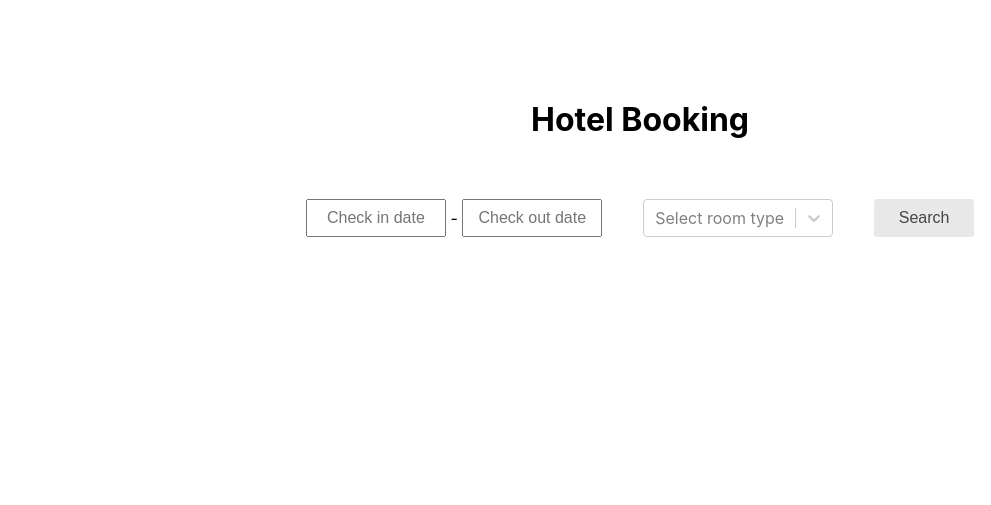
Test: returns correct double rooms with booking status
Type "28/04/2022" into the field with placeholder "Check in date". click: (376, 218)
box: [306, 199, 446, 237]
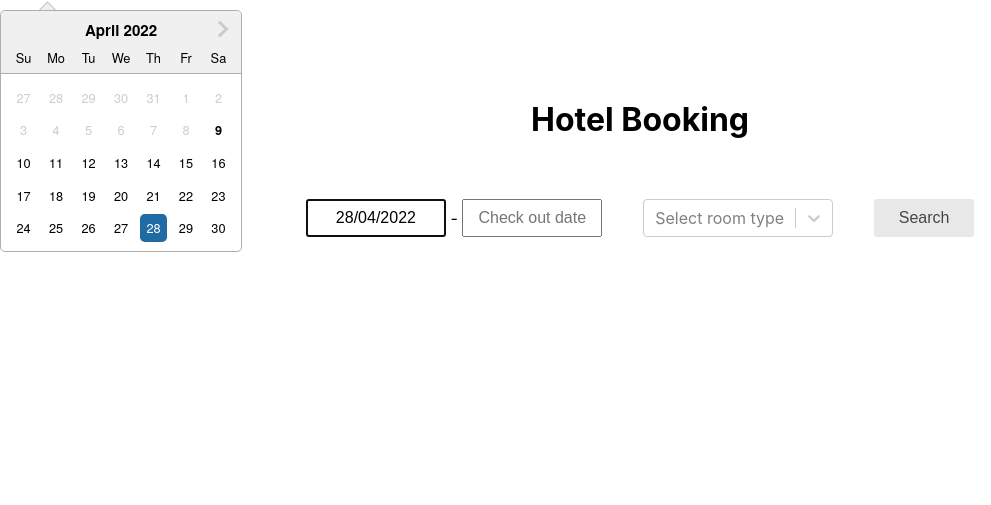
Type "04/05/2022" into the field with placeholder "Check out date". click: (532, 218)
box: [462, 199, 602, 237]
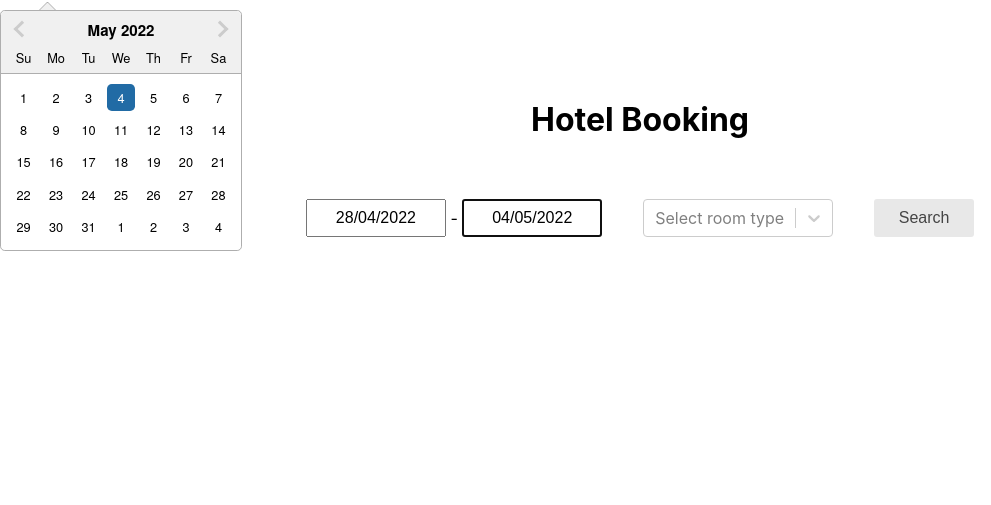
Click the element showing "Select room type". click: (738, 218)
box: [643, 199, 833, 237]
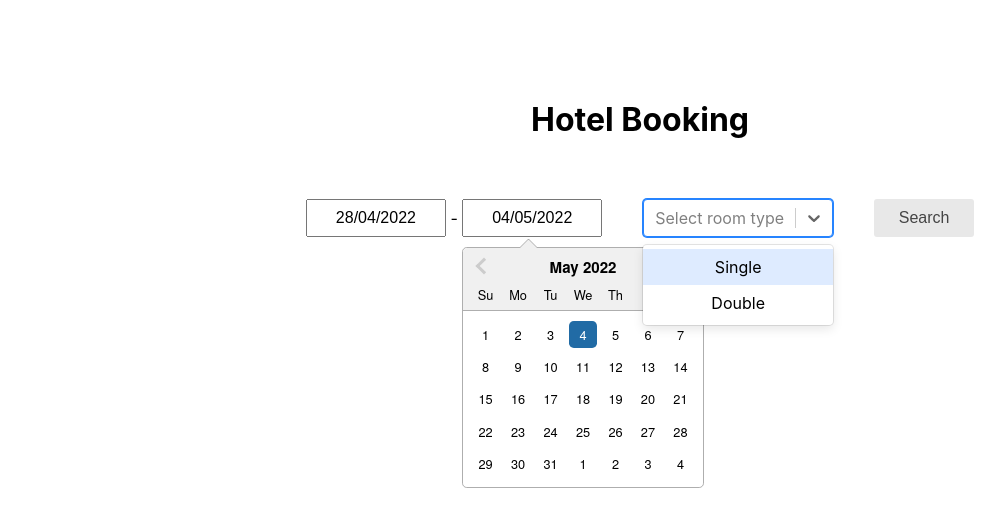
Click the option "Double". click: (738, 303)
box: [711, 293, 765, 313]
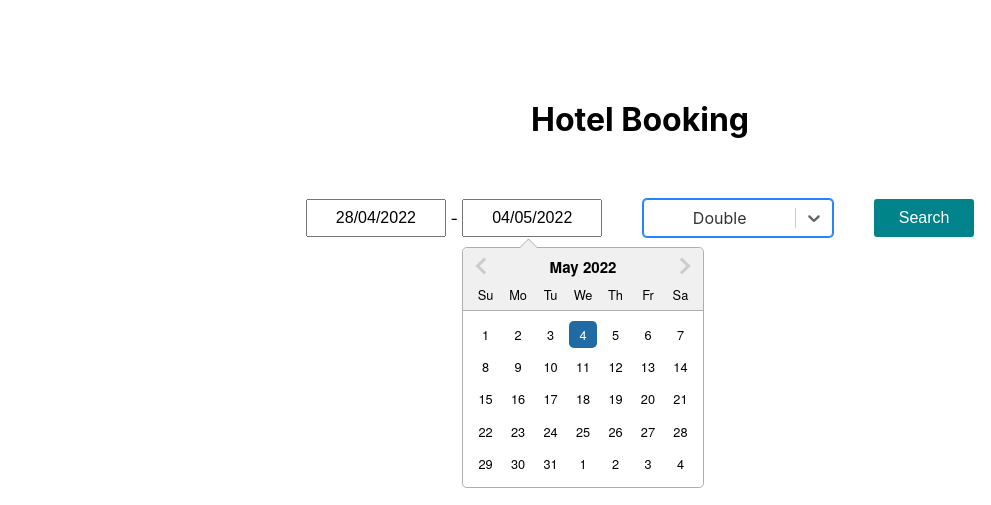
Click the button "Search". click: (924, 218)
box: [874, 199, 974, 237]
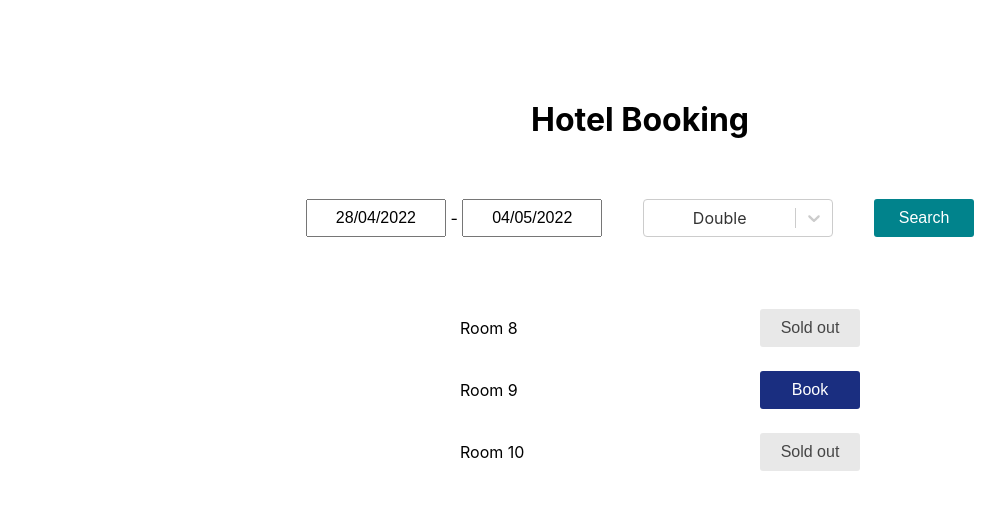
Check: the list is shown, box [460, 309, 860, 471]
Check: the number of buttons "Sold out" is 2, box [760, 309, 860, 347]; [760, 433, 860, 471]
